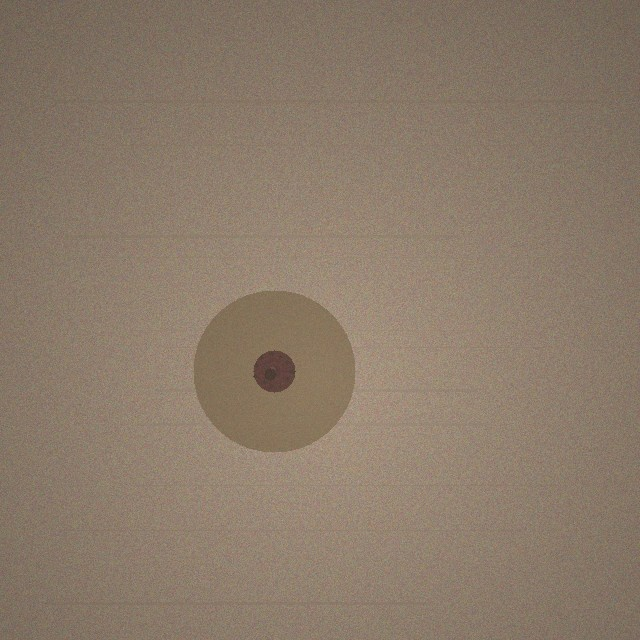cold_weld: (193, 290, 355, 452)
